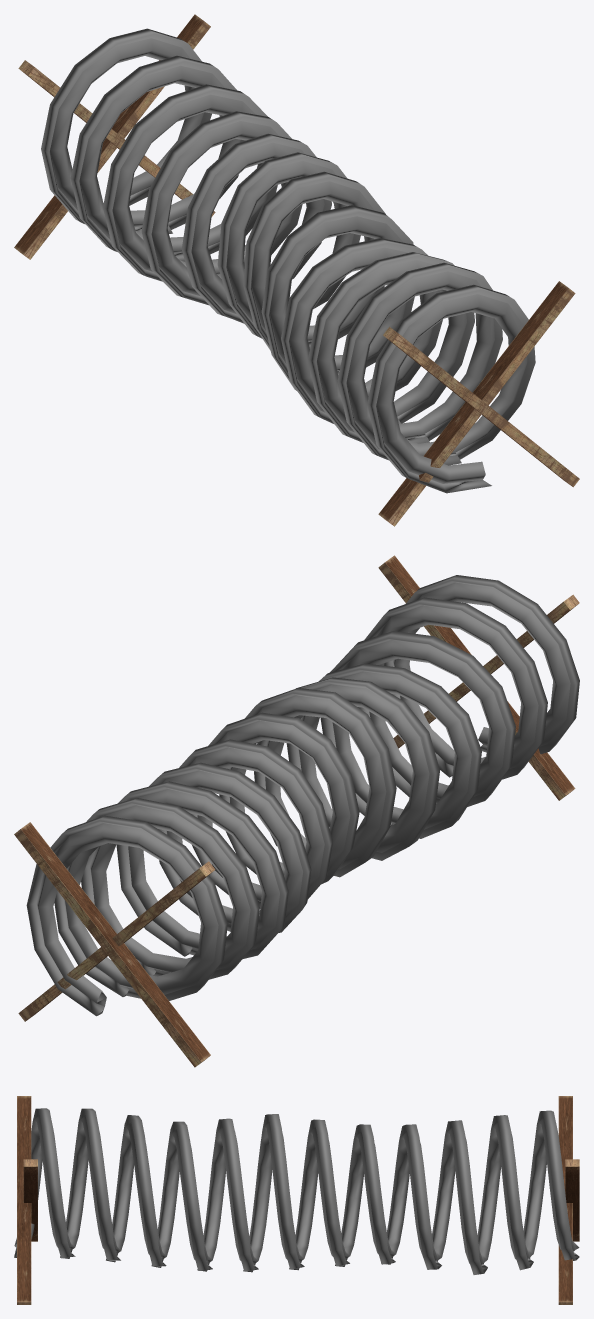
The model's file is Sandbags_Wire.fbx.
3 views of the same model, one above another, from view 1: azimuth 30°, elevation 25°; view 2: azimuth 150°, elevation 25°; view 3: azimuth 270°, elevation 25° (orthographic). The views are drawn at different scales.
Visible parts, largest first — view 1: Sandbags_Wire; view 2: Sandbags_Wire; view 3: Sandbags_Wire.
Boxes of the visible parts, <box> form: Sandbags_Wire: <box>14,14,579,526</box>; Sandbags_Wire: <box>14,555,579,1067</box>; Sandbags_Wire: <box>14,1096,579,1304</box>.
Size of the model in its own units: 192 by 190 by 625.
